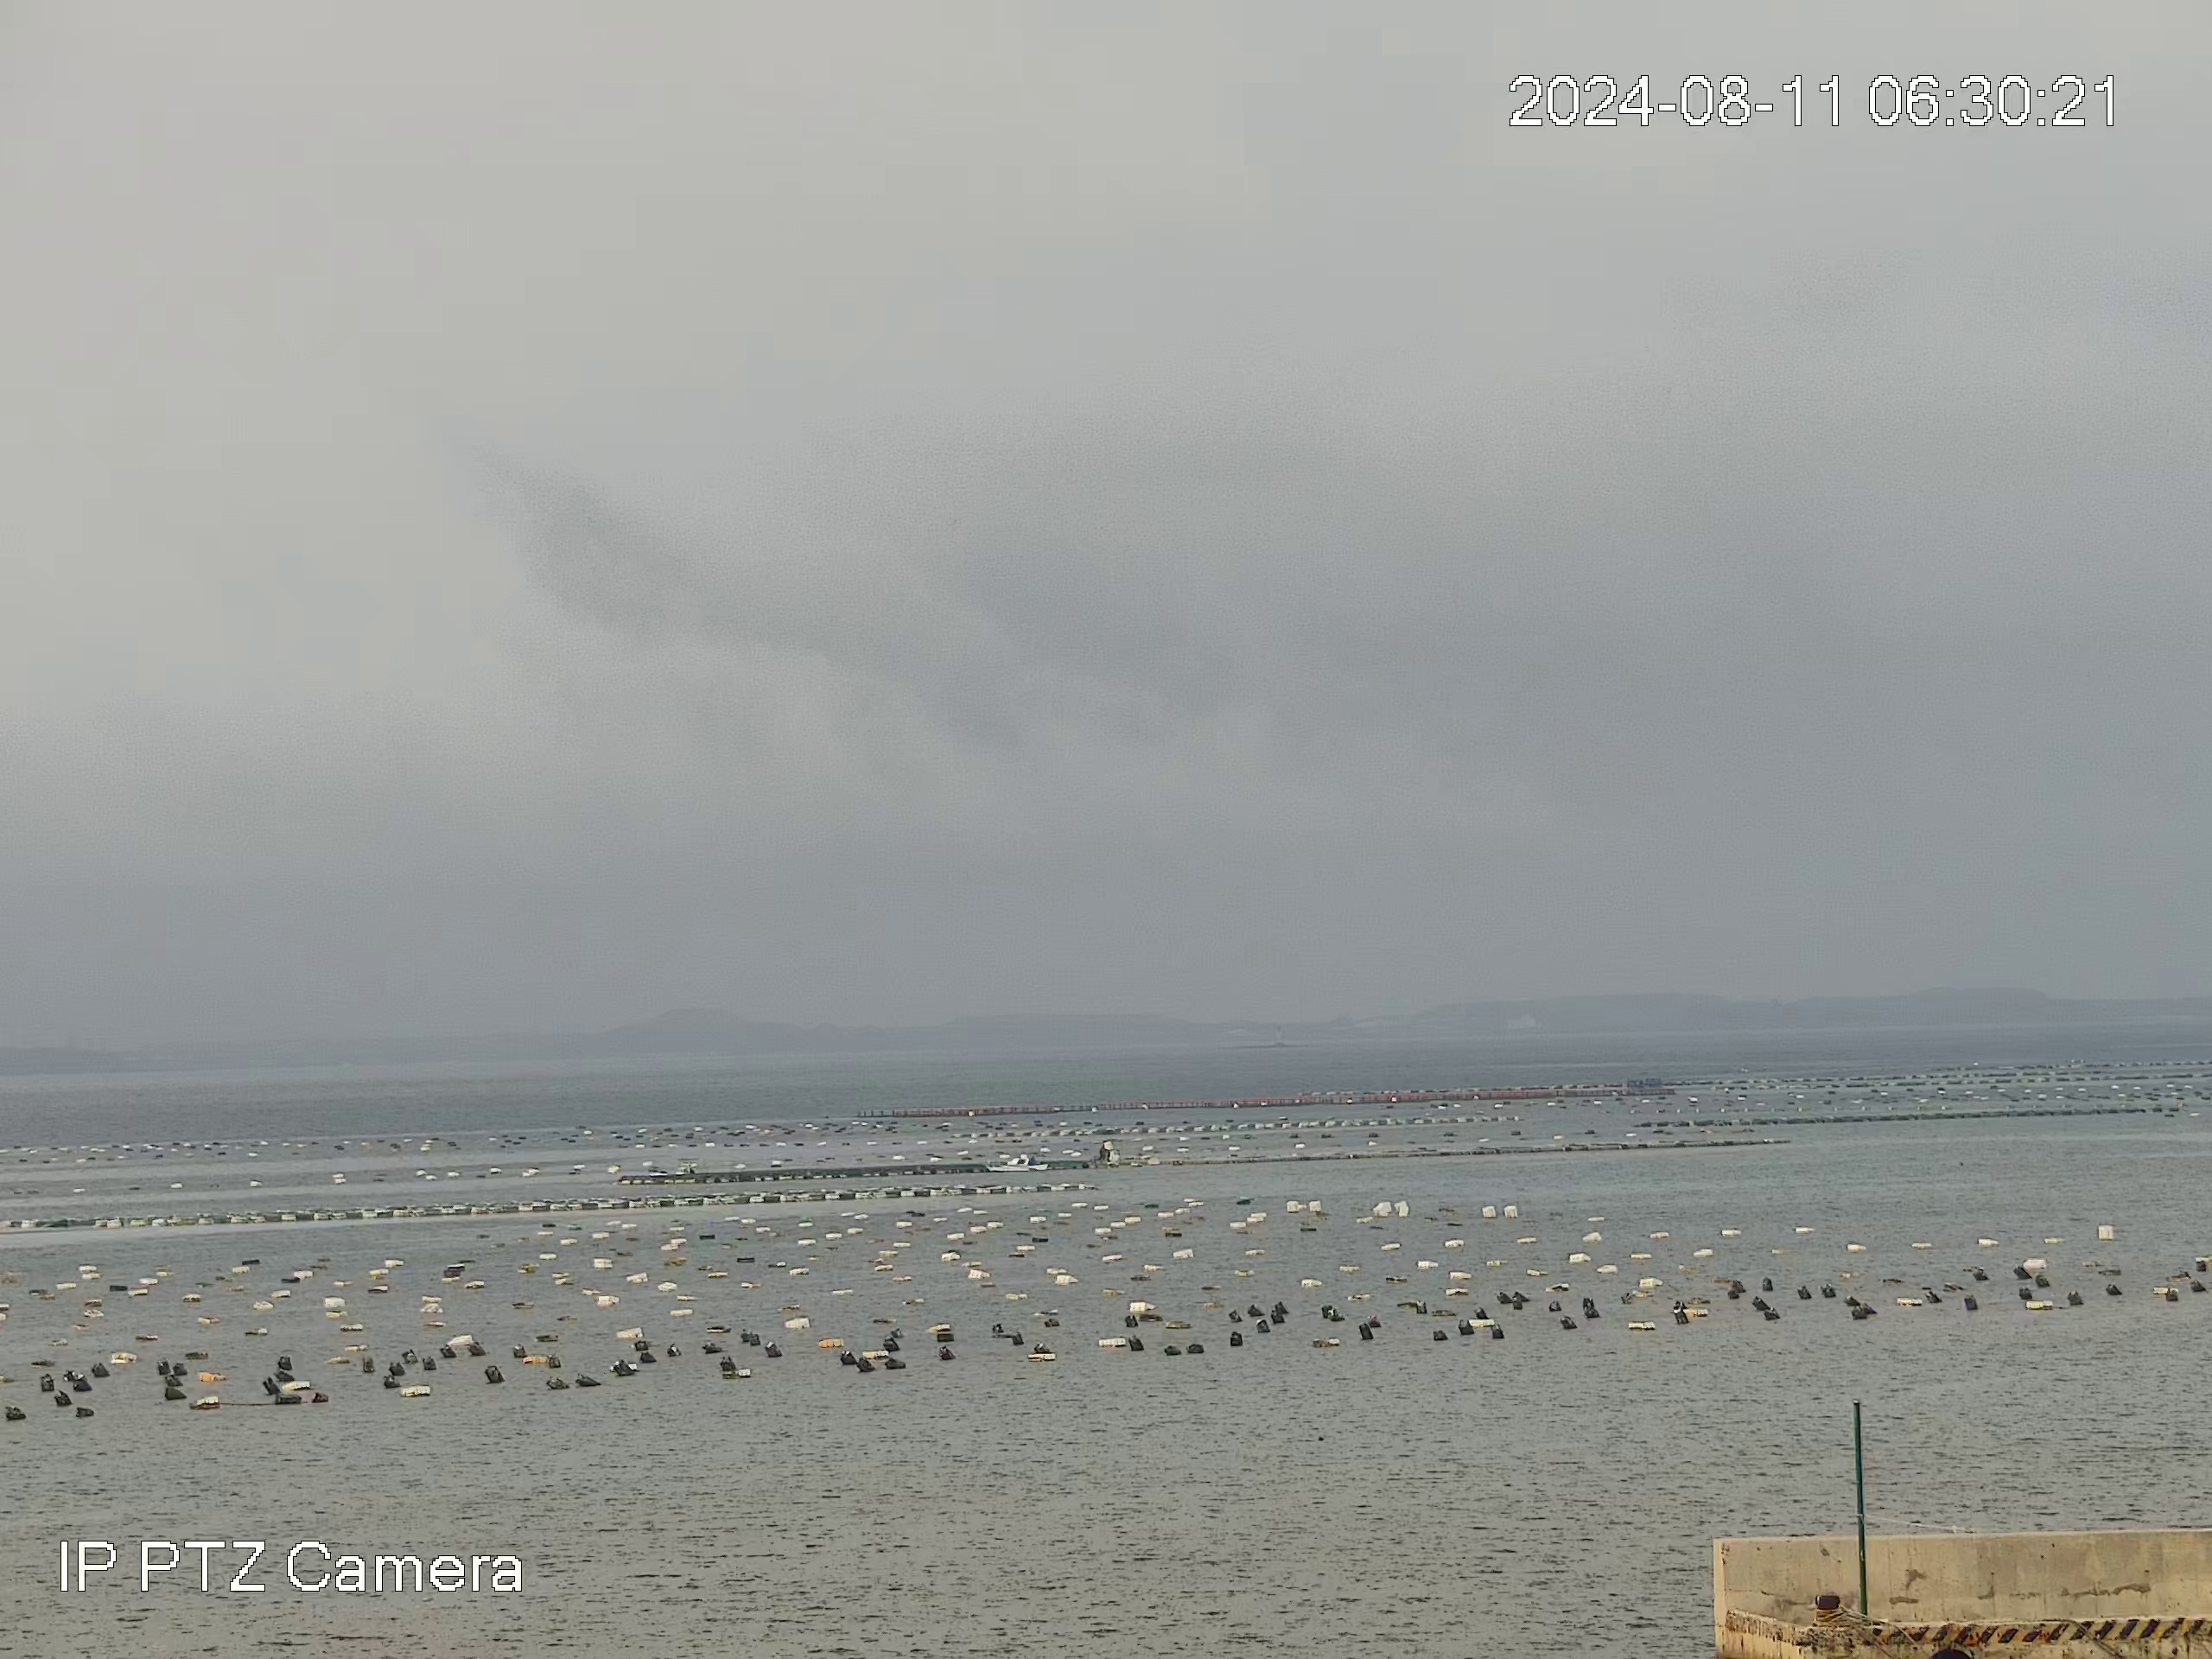boat: (984, 1152, 1050, 1175)
